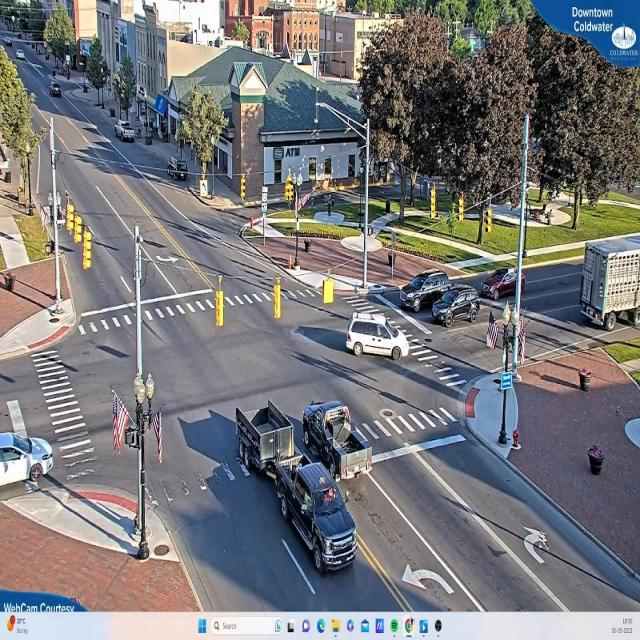car: (269, 458, 360, 574), (346, 316, 410, 361), (0, 432, 53, 482), (399, 270, 454, 310), (432, 289, 481, 327), (483, 270, 525, 303), (116, 122, 138, 145)
